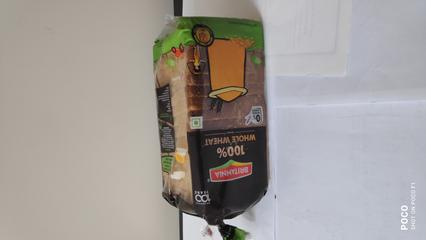bread: (143, 13, 269, 221)
